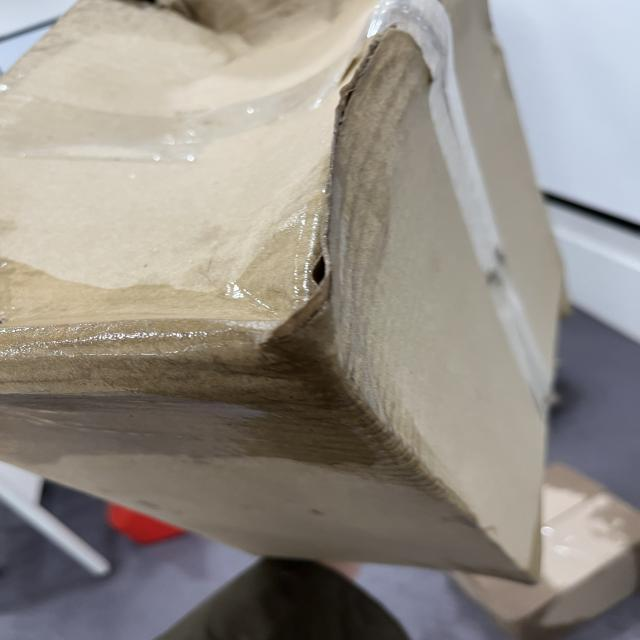wet: (3, 203, 413, 487)
